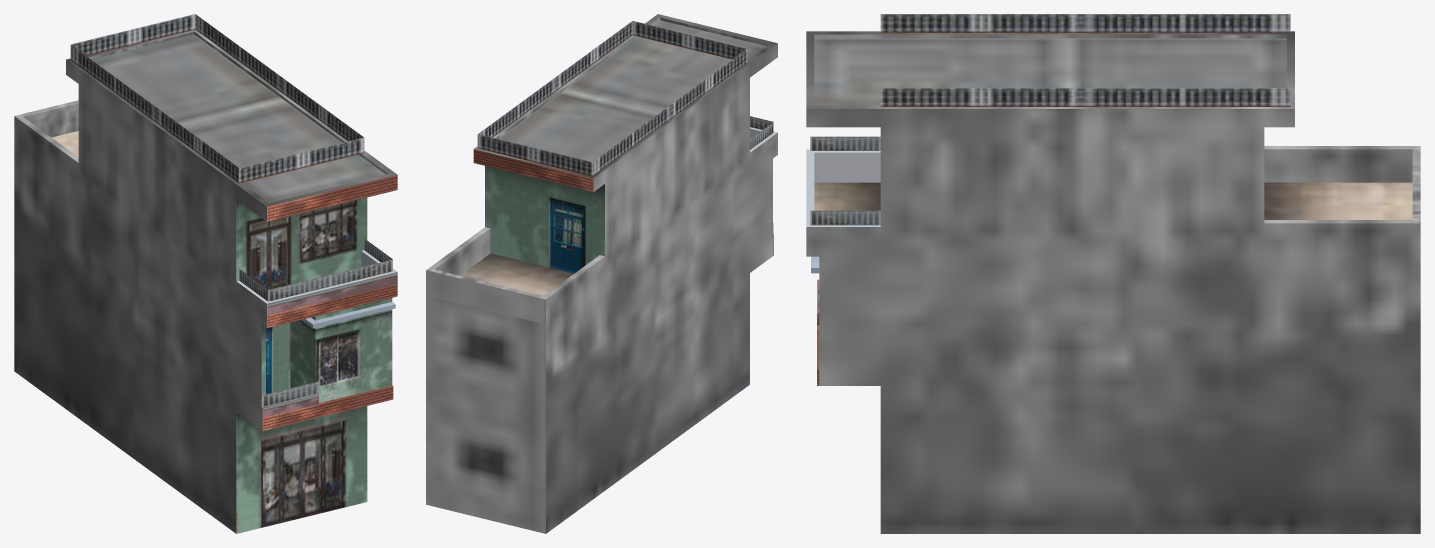
3 views of the same model, side by side, from view 1: azimuth 30°, elevation 25°; view 2: azimuth 150°, elevation 25°; view 3: azimuth 270°, elevation 25° (orthographic). The views are drawn at different scales.
Parts seen in each view (by area): view 1: 5da67ce48163ae1640b96388.001; view 2: 5da67ce48163ae1640b96388.001; view 3: 5da67ce48163ae1640b96388.001.
Boxes of the visible parts, x1,y1,x2,y2 form: 5da67ce48163ae1640b96388.001: (14,14,397,533); 5da67ce48163ae1640b96388.001: (426,14,777,533); 5da67ce48163ae1640b96388.001: (806,14,1420,533).
Bounding box in the file's own units: 4.5 × 12.01 × 15.07.
Materials: 1 (1 with a texture image).
